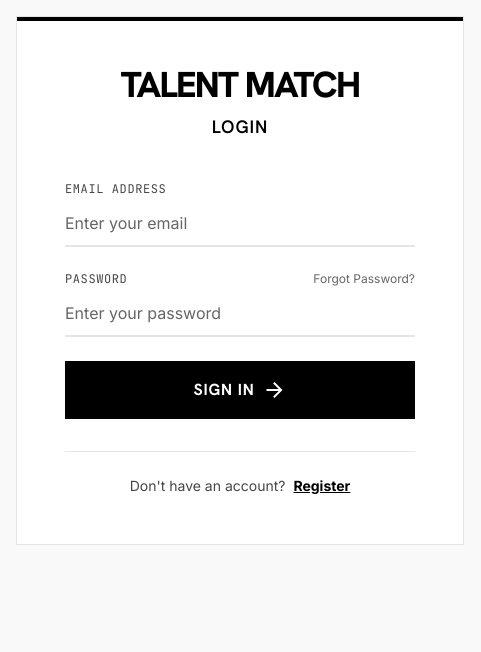
Test case: Login Error Mapping › displays rate limit message on HTTP 429
Type "user@talentmatch.com" into the field with placeholder "Enter your email" at (240, 224), box [65,201,415,247]
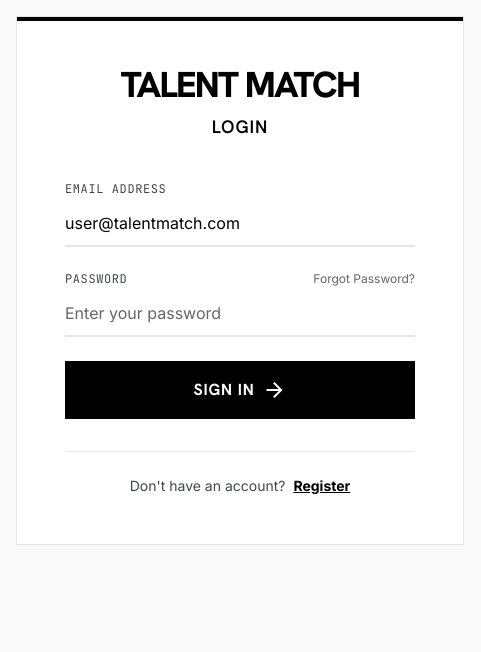
Type "password123" into the password field with placeholder "Enter your password" at (240, 314), box [65,291,415,337]
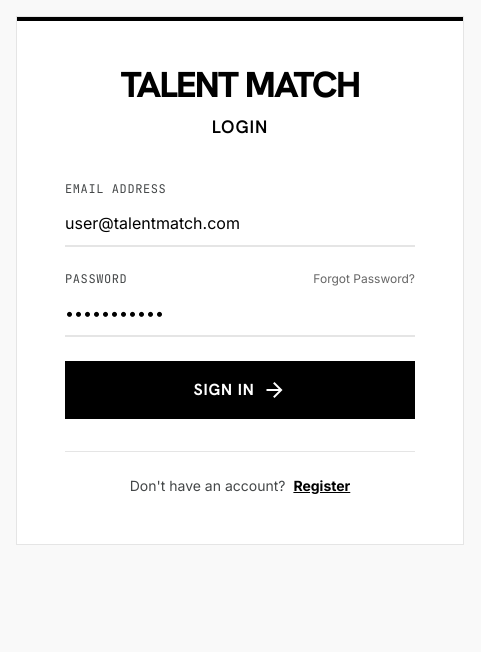
Click the button "SIGN IN" at (240, 390), box [65,361,415,419]
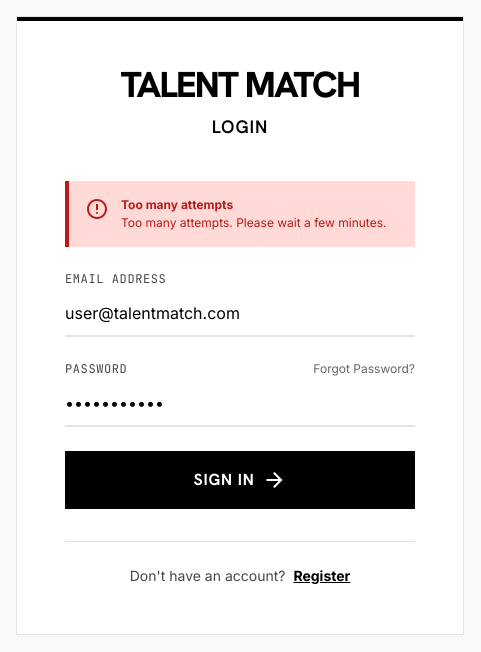
Now the text "Too many attempts. Please wait a few minutes." is shown, box [121,215,386,231]
